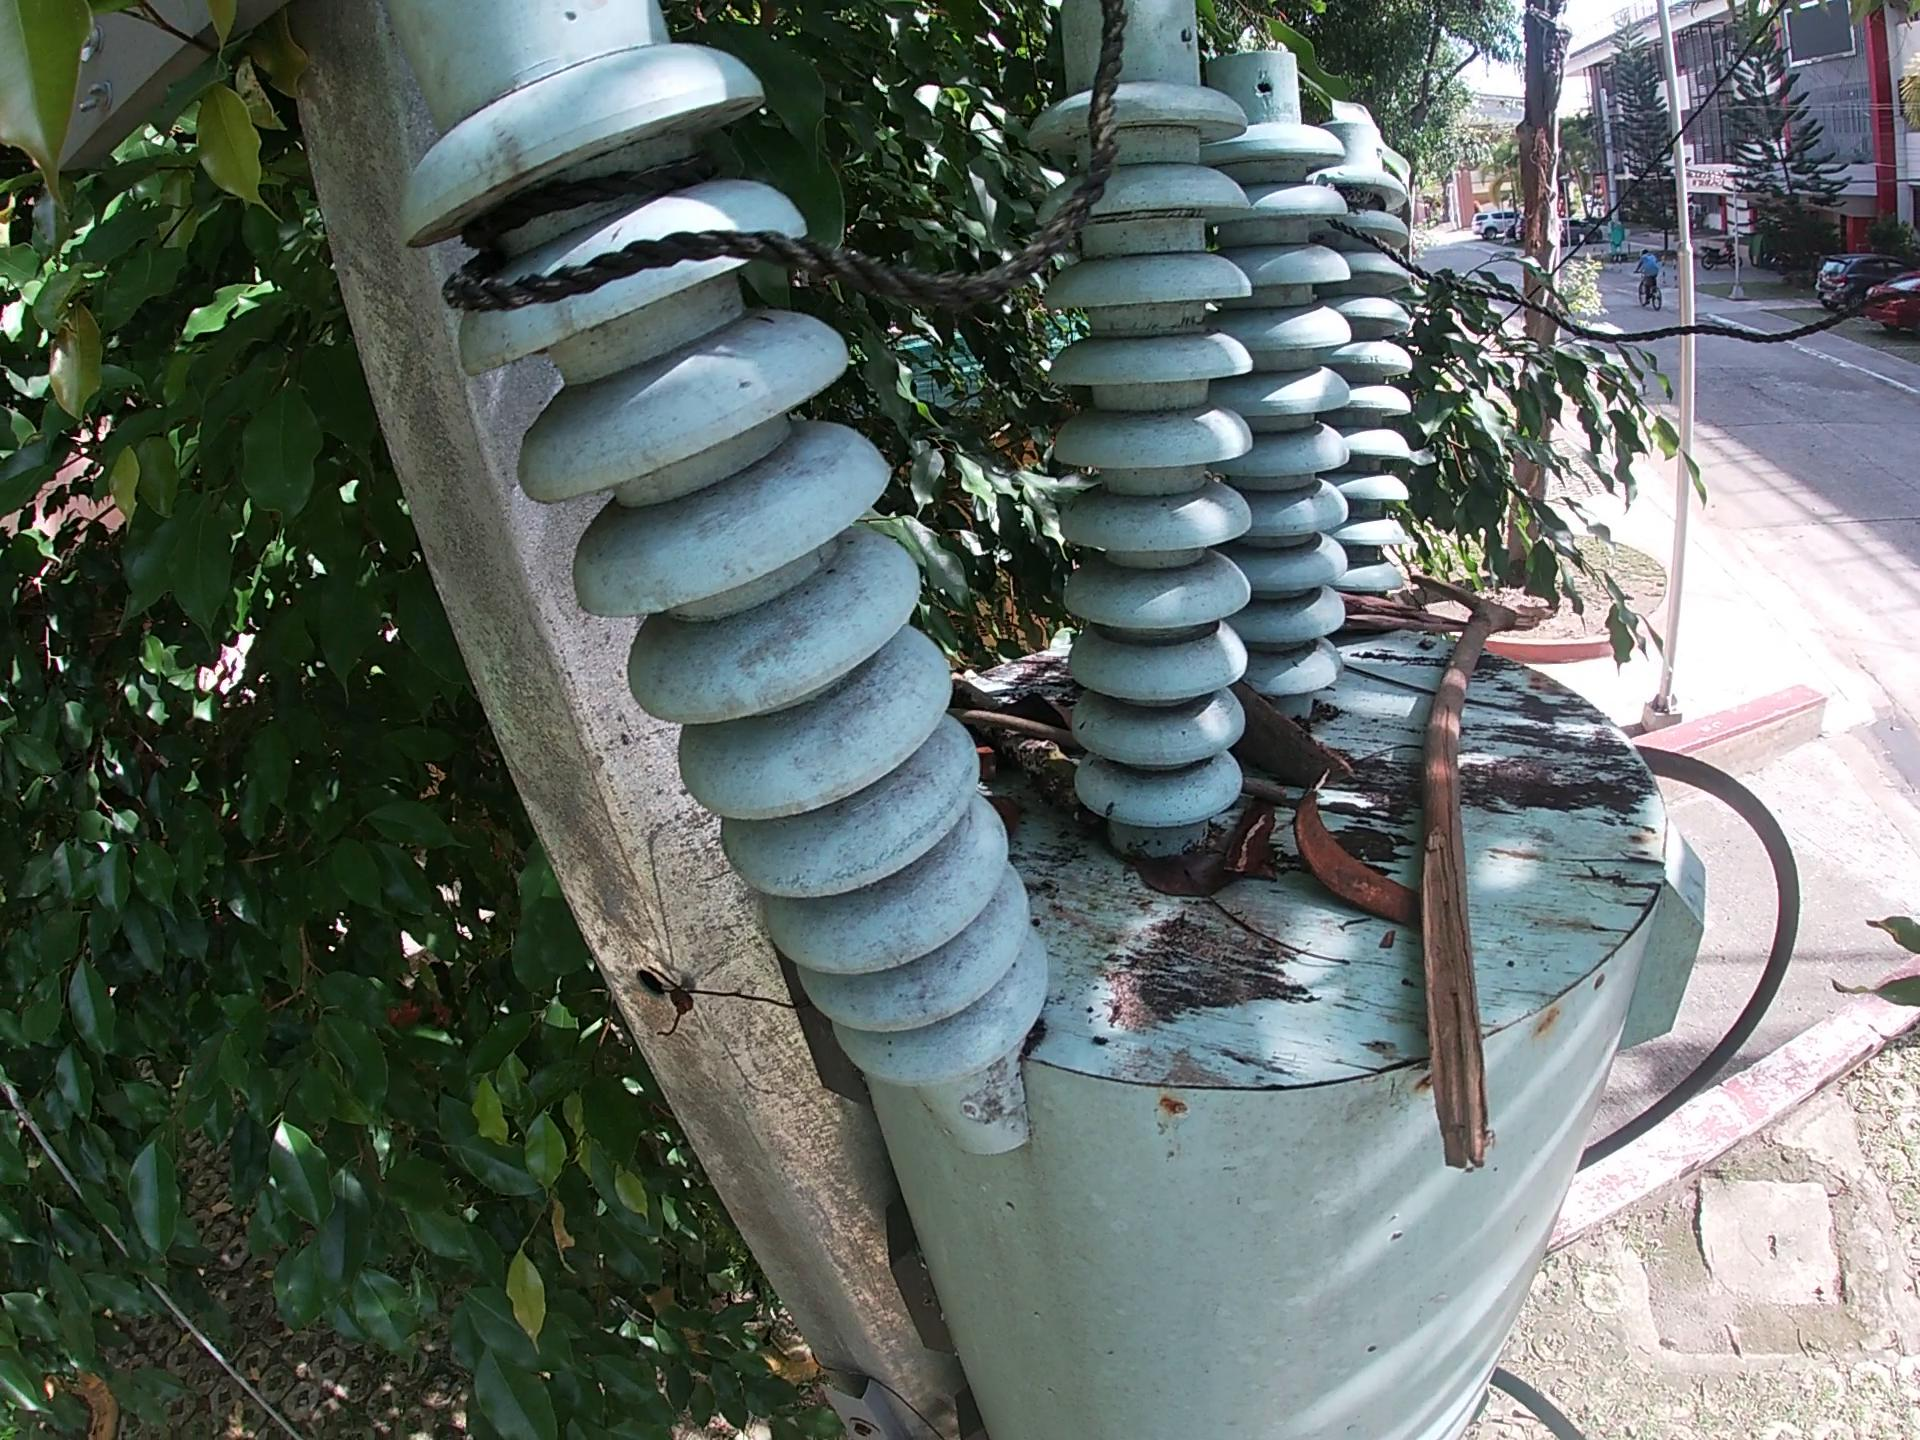leaf: (1123, 852, 1234, 892), (999, 700, 1078, 728), (989, 793, 1025, 832), (981, 740, 1002, 777)
mahogany fruit: (1285, 773, 1429, 932), (1238, 675, 1364, 800)
tree branch: (1400, 563, 1531, 1237), (951, 672, 1104, 826), (1209, 892, 1379, 971), (1347, 659, 1531, 725), (1338, 591, 1463, 634), (946, 709, 1081, 749), (1235, 781, 1285, 809)
